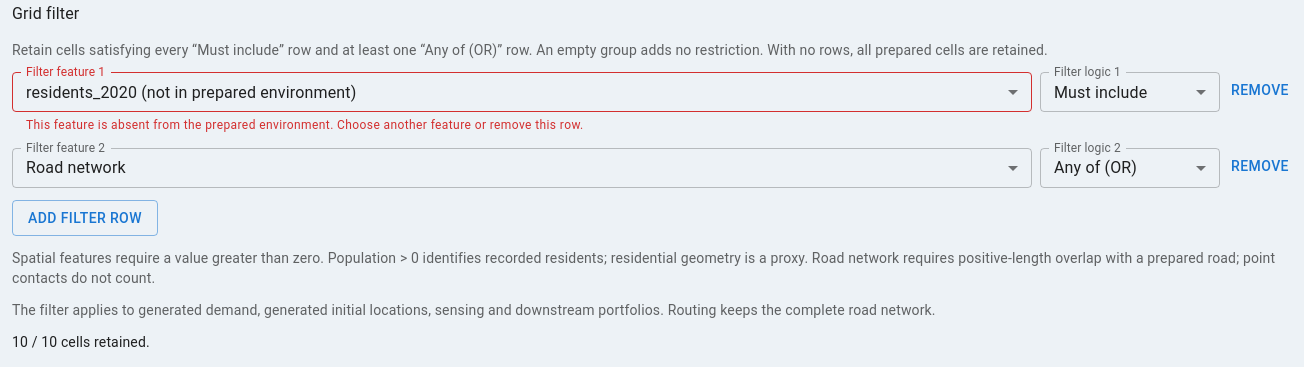
Test: retains a missing saved feature visibly and lets the user replace it without losing row logic
This screenshot has width=1304, height=367.
Expected: the text "10 / 10 cells retained." is shown, [12, 334, 150, 350]
Expected: the text "This feature is absent from the prepared environment" is shown, [26, 118, 584, 132]
Click the dropdown named "Filter feature 1".
click(191, 92)  # box [26, 82, 356, 102]
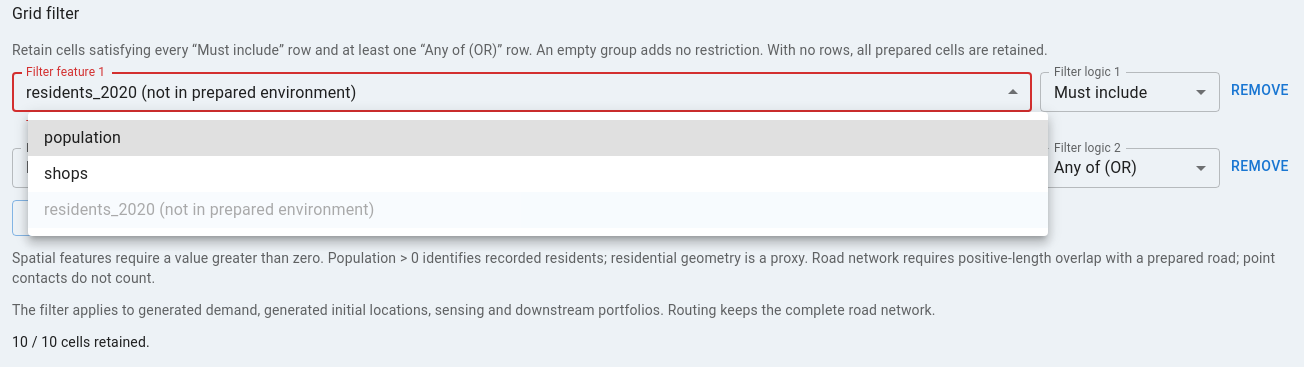
Click the option "population".
click(83, 138)  # box [28, 120, 1048, 156]
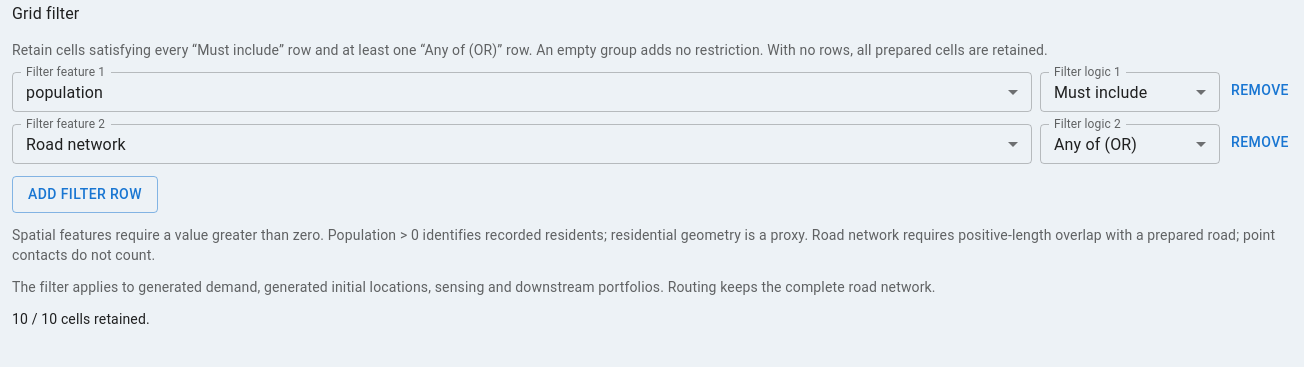
Result: the text "This feature is absent" is gone
